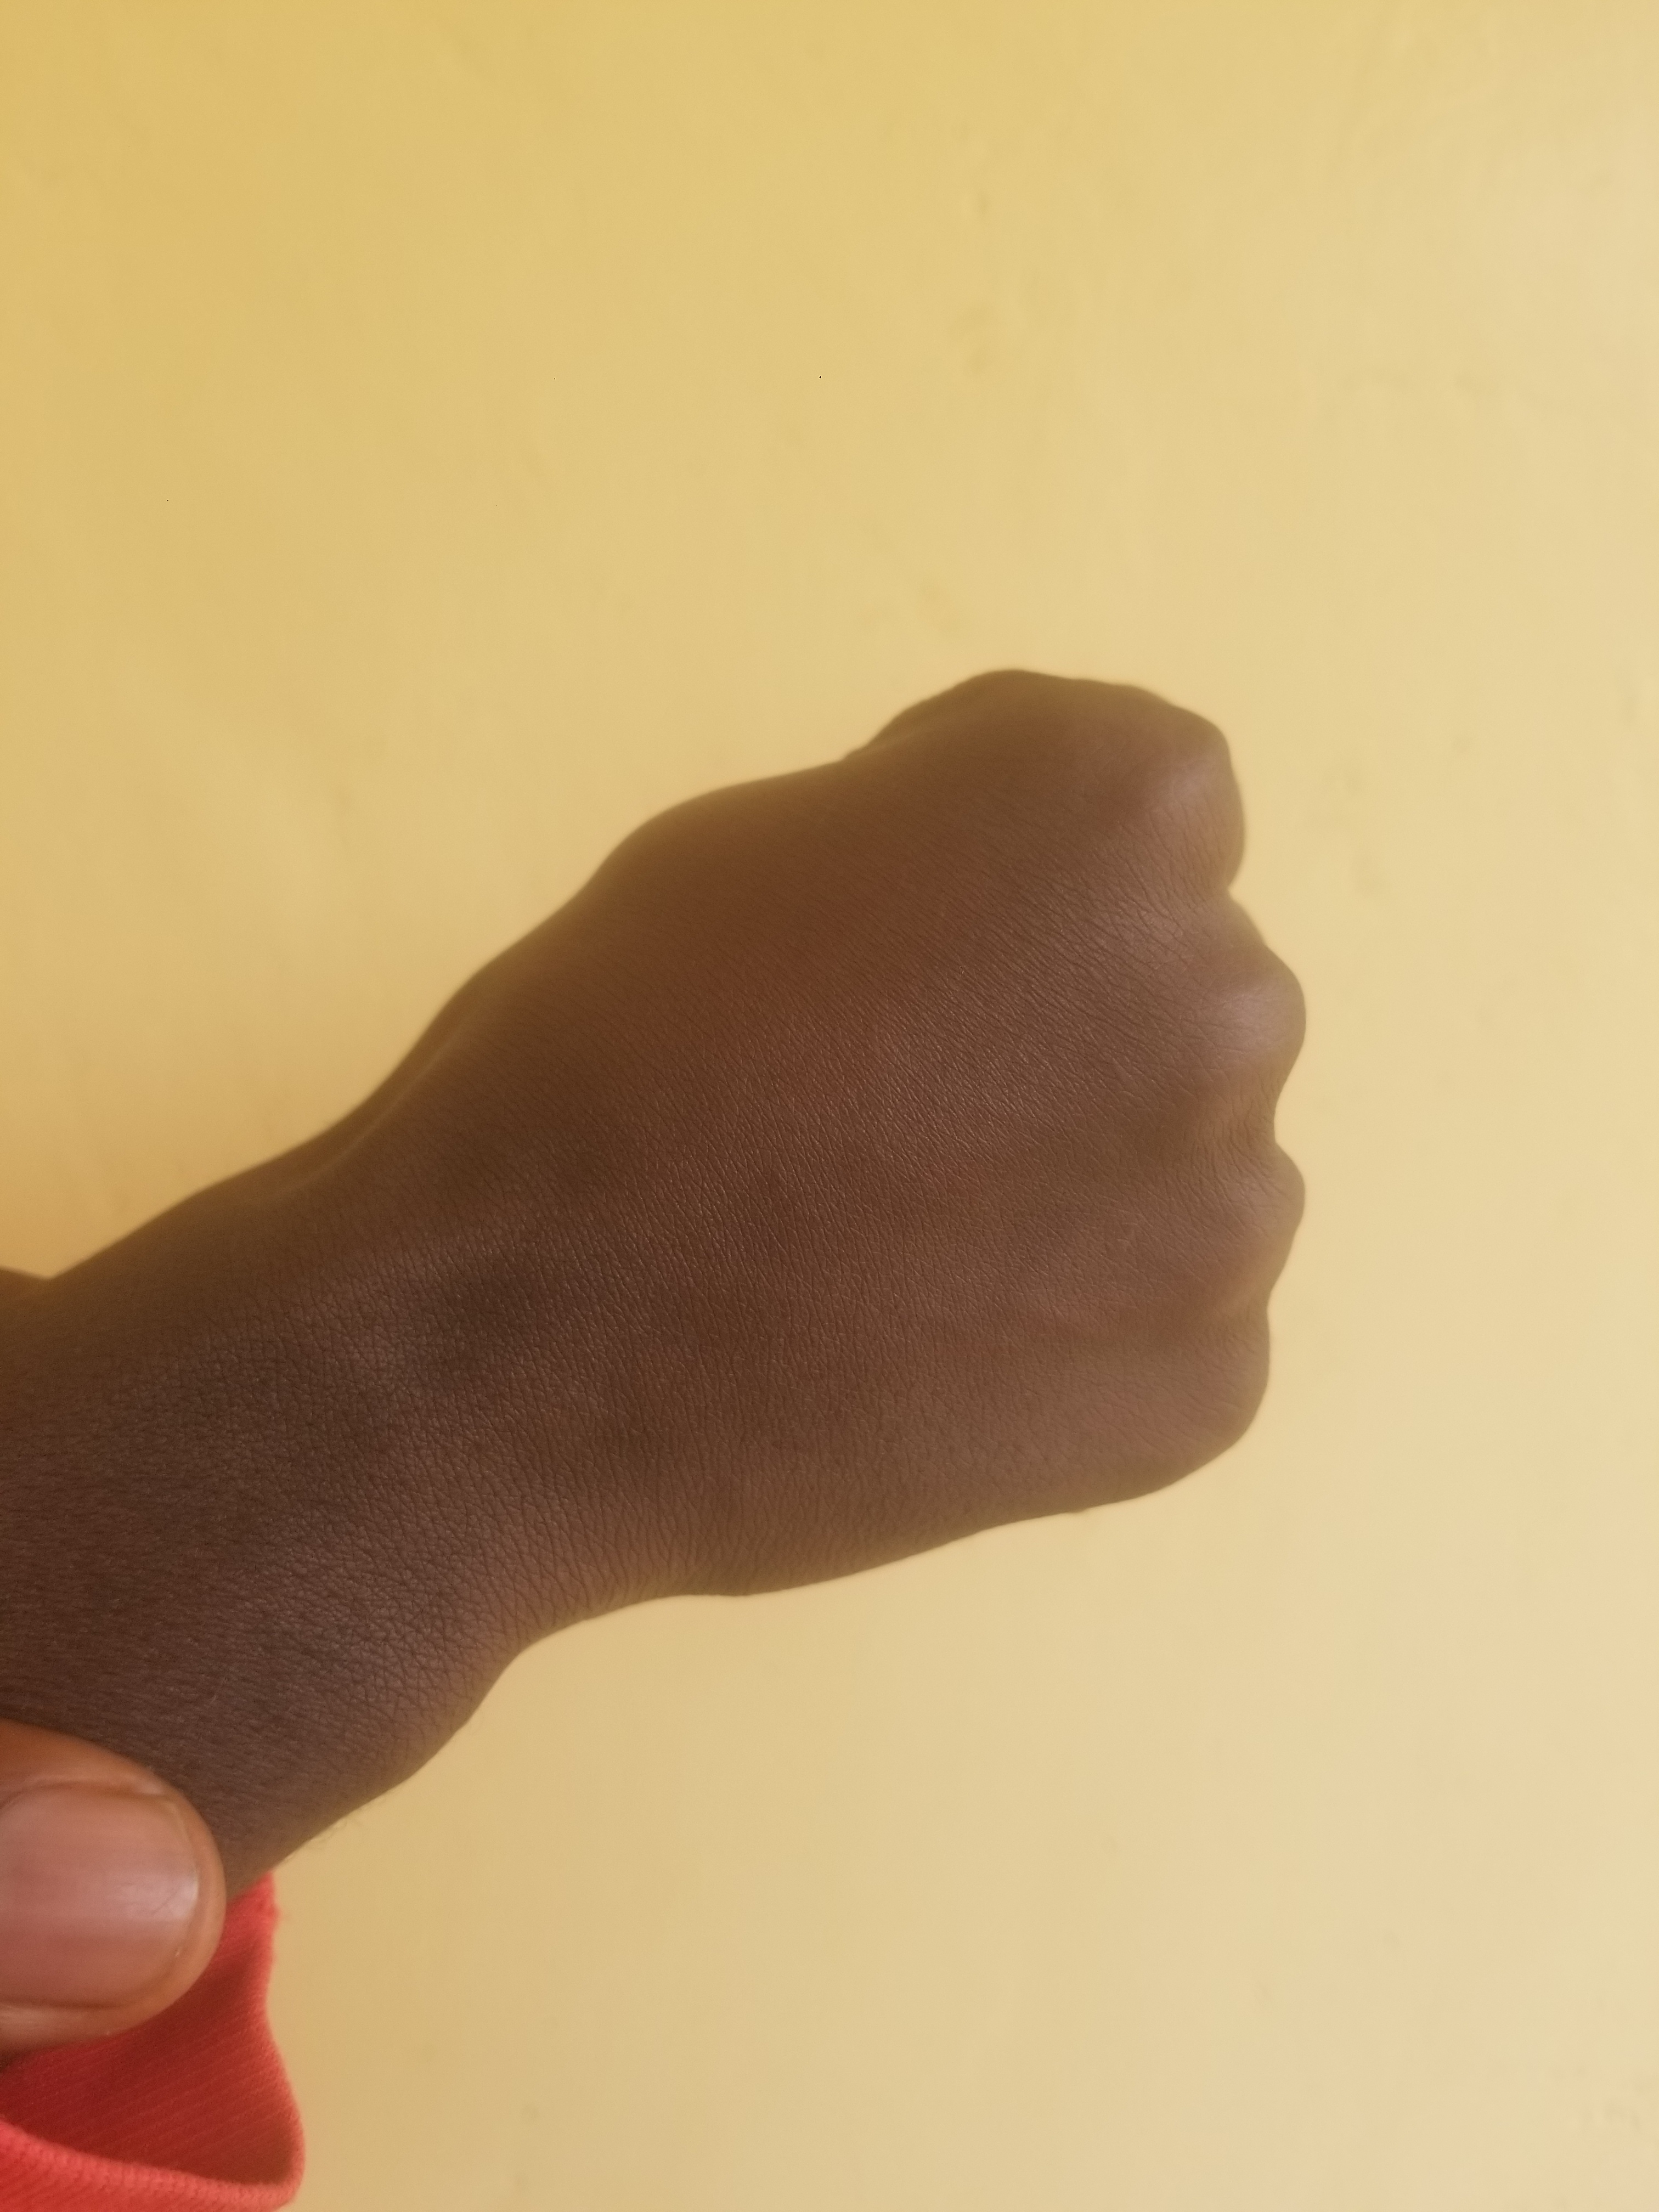fist: (178, 355, 1551, 1803)
